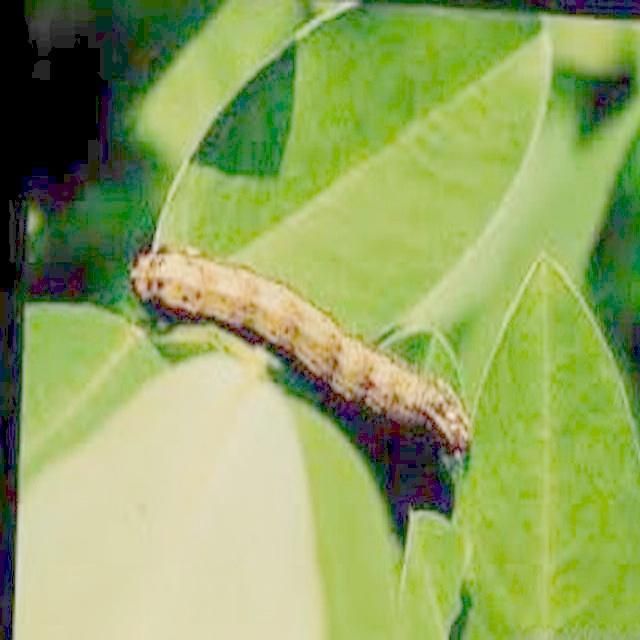Plaga: (124, 241, 478, 462)
